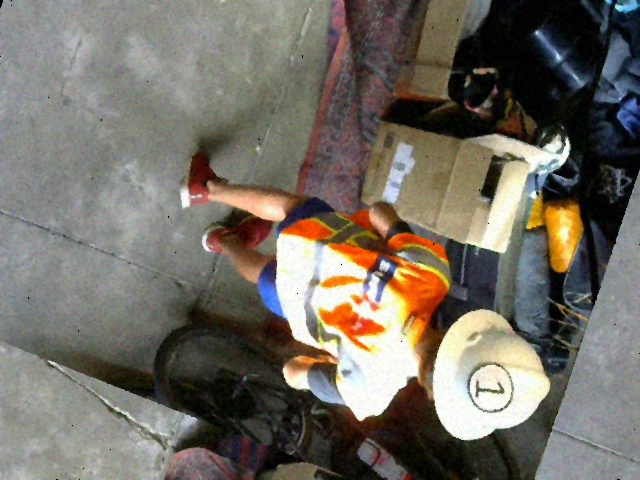one: (462, 356, 519, 417)
